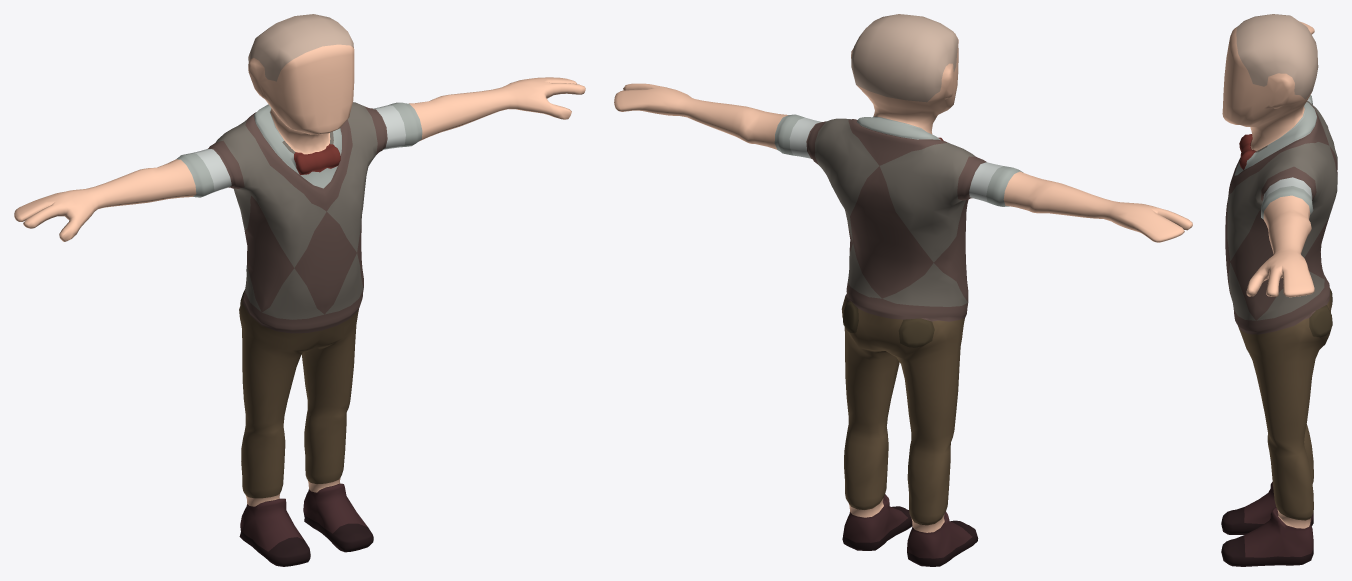
The model's file is SK_Chr_Kid_Nerd_01_semi_rounded.fbx.
The picture shows the model from 3 angles, left to right: view 1: azimuth 30°, elevation 25°; view 2: azimuth 150°, elevation 25°; view 3: azimuth 270°, elevation 25°; orthographic projection.
Visible parts, largest first — view 1: SK_Chr_Kid_Nerd_01; view 2: SK_Chr_Kid_Nerd_01; view 3: SK_Chr_Kid_Nerd_01.
Boxes of the visible parts, box(x1,y1,x2,y2) form: SK_Chr_Kid_Nerd_01: box(14, 14, 585, 566); SK_Chr_Kid_Nerd_01: box(614, 14, 1192, 566); SK_Chr_Kid_Nerd_01: box(1221, 14, 1337, 566).
Size of the model in its own units: 130 by 115 by 23.32.
1 material, 1 textured.
